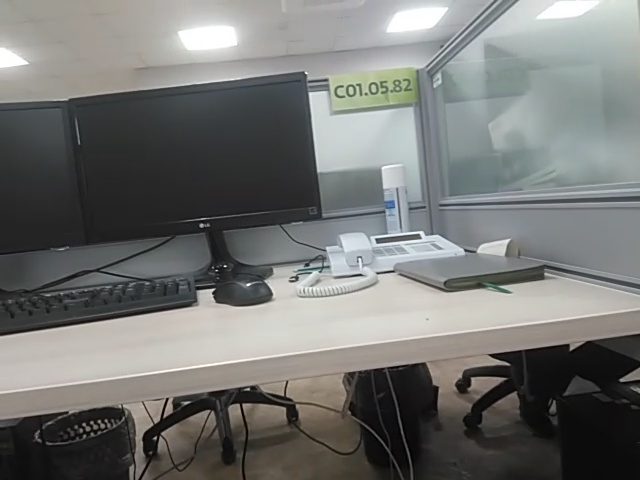table: (328, 66, 420, 113)
